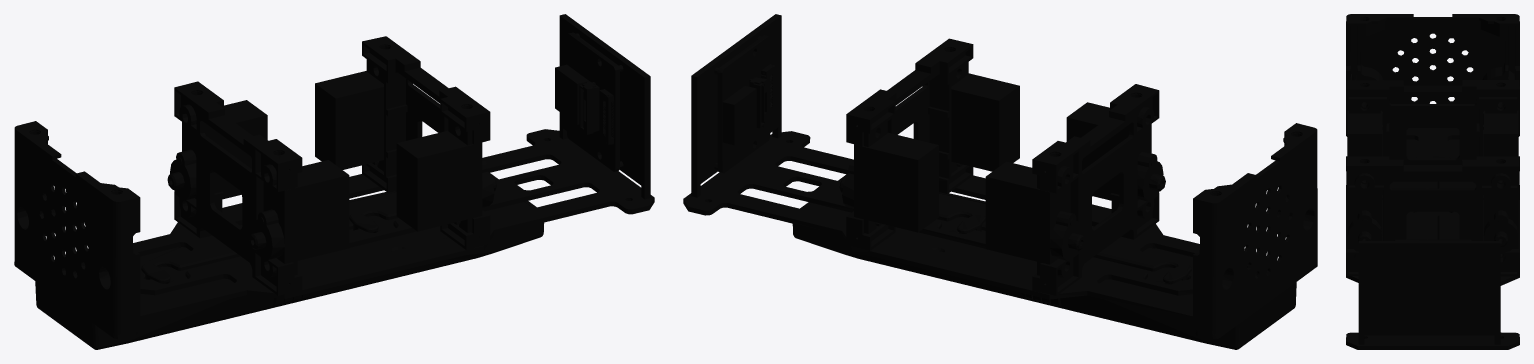
The model's file is base_link_black.dae.
3 renders of one model, left to right at view 1: azimuth 30°, elevation 25°; view 2: azimuth 150°, elevation 25°; view 3: azimuth 270°, elevation 25°, orthographic. The views are drawn at different scales.
Parts seen in each view (by area): view 1: base_link; view 2: base_link; view 3: base_link.
Part boxes in pixels (x1,y1,x2,y2): base_link: (14, 14, 654, 349); base_link: (683, 14, 1317, 349); base_link: (1346, 14, 1519, 349).
Bounding box in the file's own units: 0.181 × 0.06 × 0.0533.
1 material, 1 textured.
